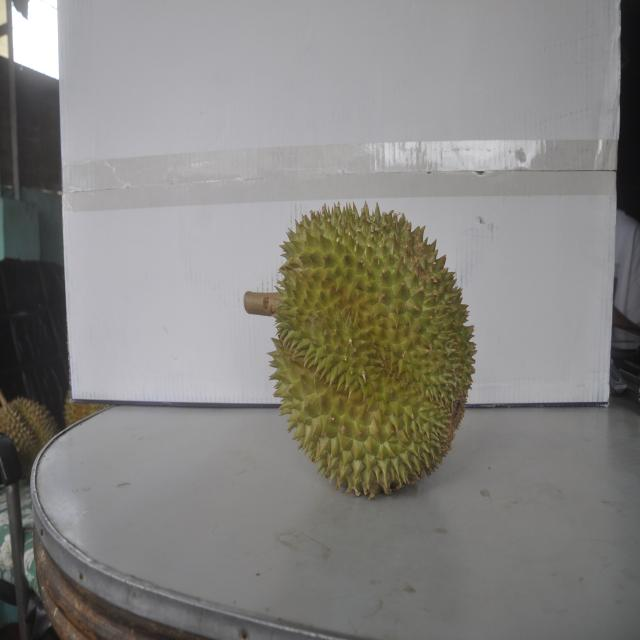mature: (261, 198, 469, 497), (1, 395, 58, 476)
